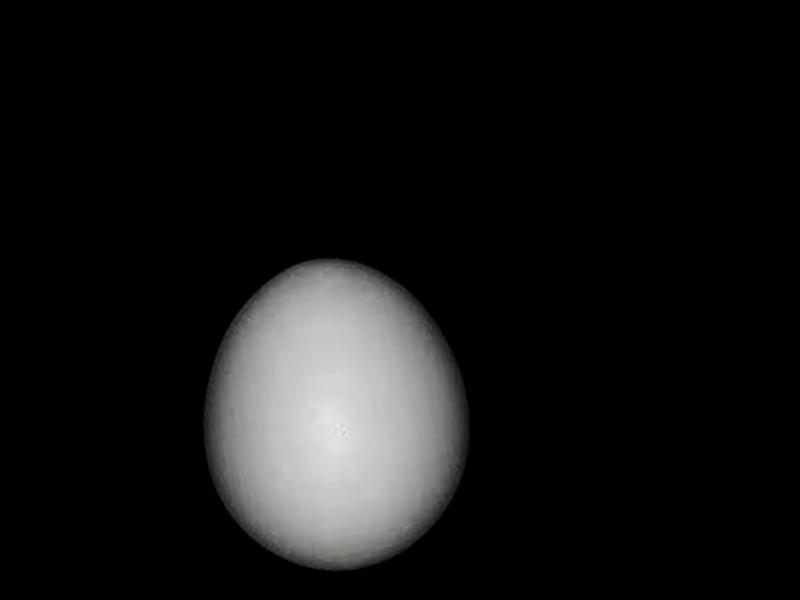Eggs: (177, 240, 492, 589)
